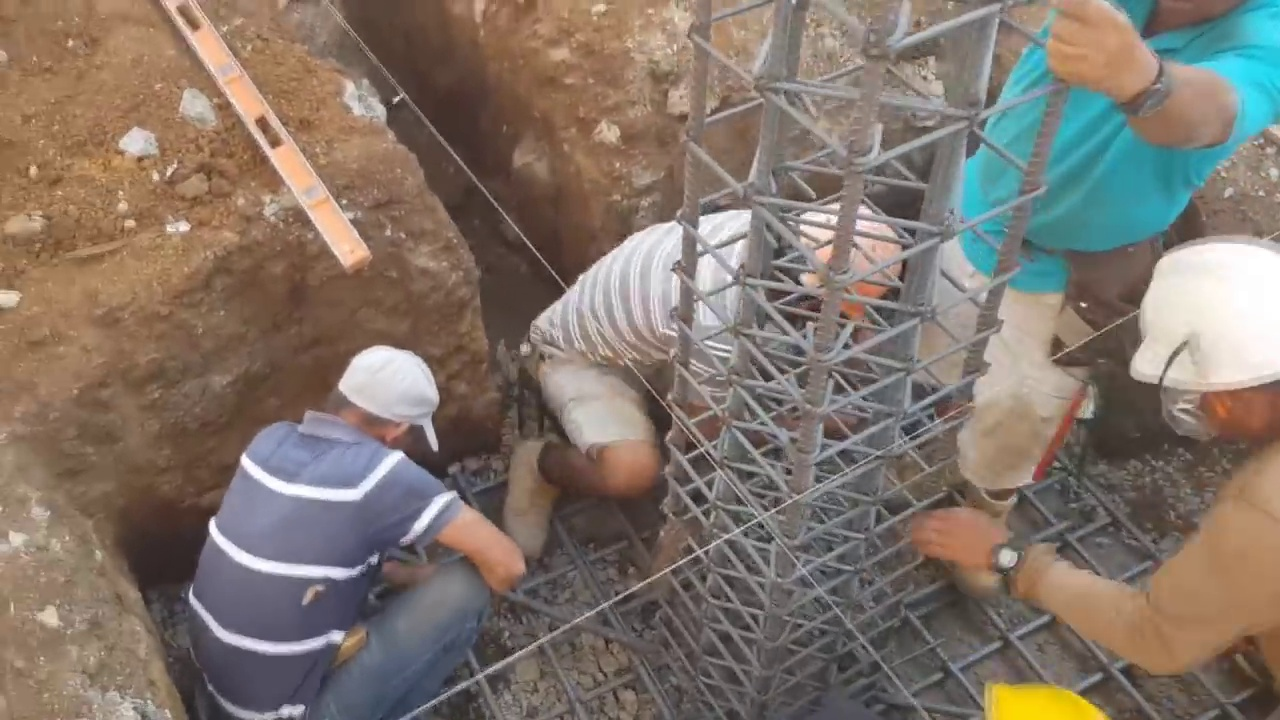helmet: (1126, 240, 1280, 398), (793, 195, 907, 323), (993, 677, 1129, 720)
helmet-off: (322, 346, 440, 466)
helmet-on: (1117, 244, 1280, 458), (756, 191, 919, 350)
person: (824, 238, 1280, 680), (938, 0, 1275, 592), (509, 192, 919, 571), (171, 322, 529, 714)
